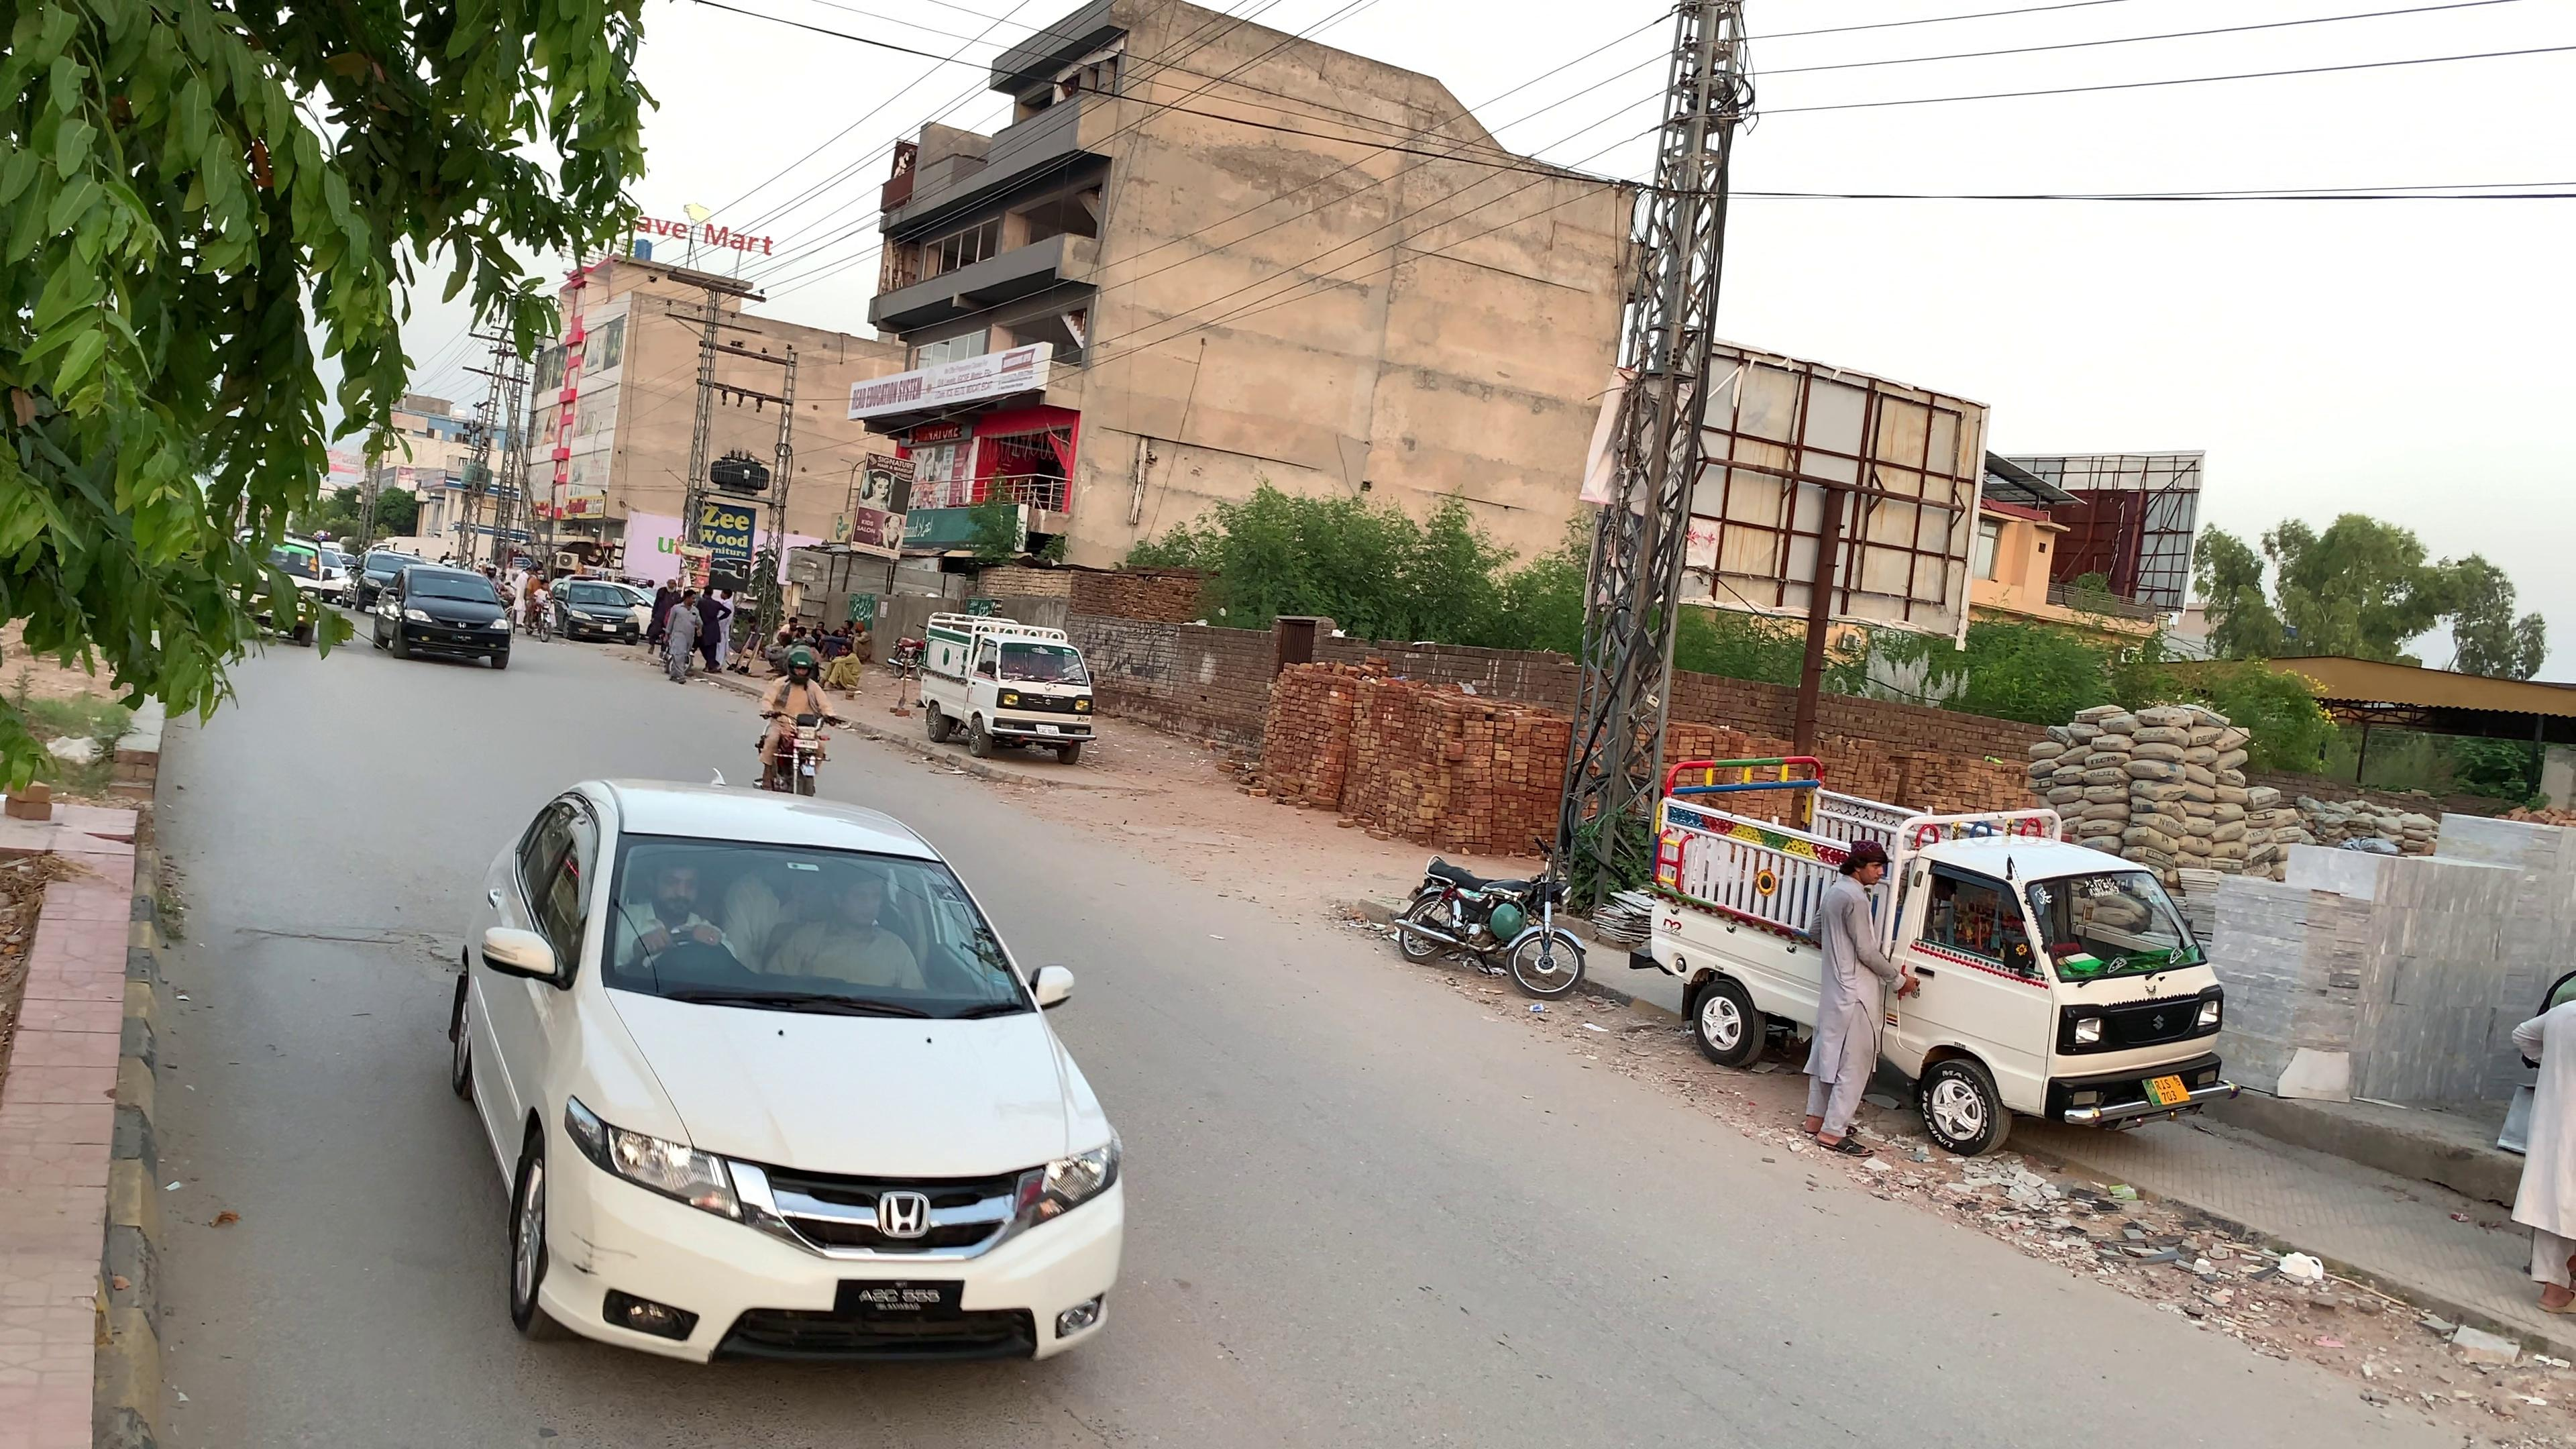windshield: (596, 835, 1040, 1028)
